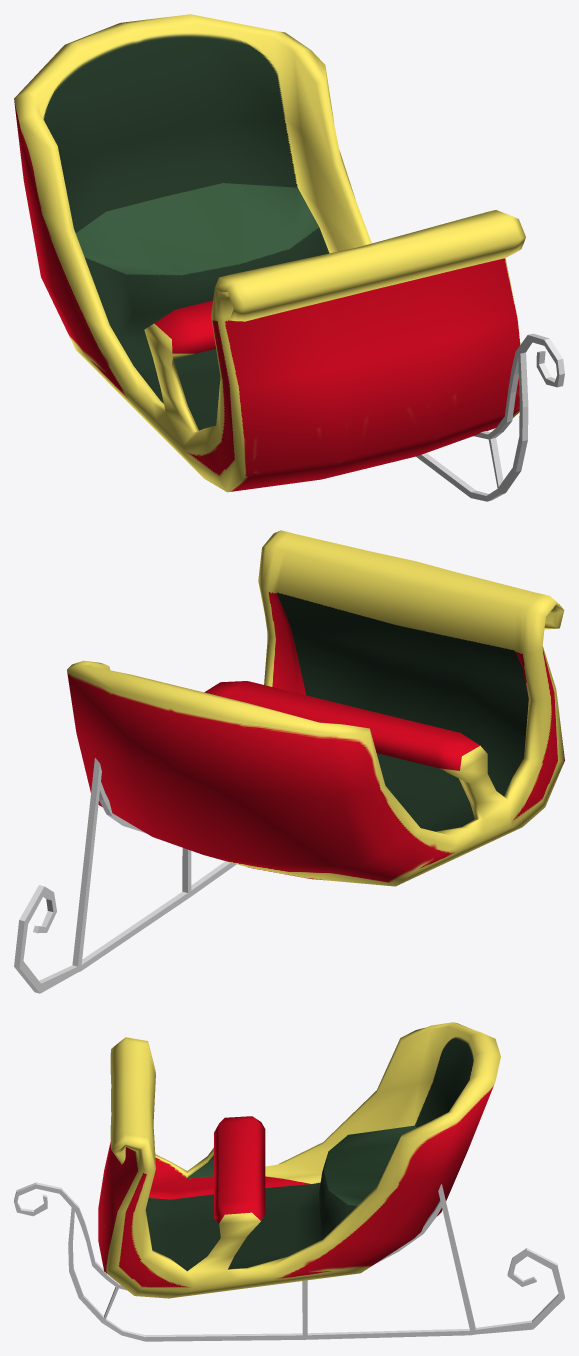
The model's file is carruaje_y_papanuel.dae.
3 views of the same model, one above another, from view 1: azimuth 30°, elevation 25°; view 2: azimuth 150°, elevation 25°; view 3: azimuth 270°, elevation 25° (orthographic). The views are drawn at different scales.
Parts seen in each view (by area): view 1: carruaje, barras; view 2: carruaje, barras; view 3: carruaje, barras.
Part boxes in pixels (x1,y1,x2,y2): carruaje: (14, 14, 525, 492); barras: (416, 333, 564, 501); carruaje: (67, 530, 564, 886); barras: (14, 758, 236, 993); carruaje: (98, 1022, 500, 1298); barras: (14, 1182, 564, 1341).
Bounding box in the file's own units: 4.02 × 8.7 × 4.31.
1 material, 1 textured.
